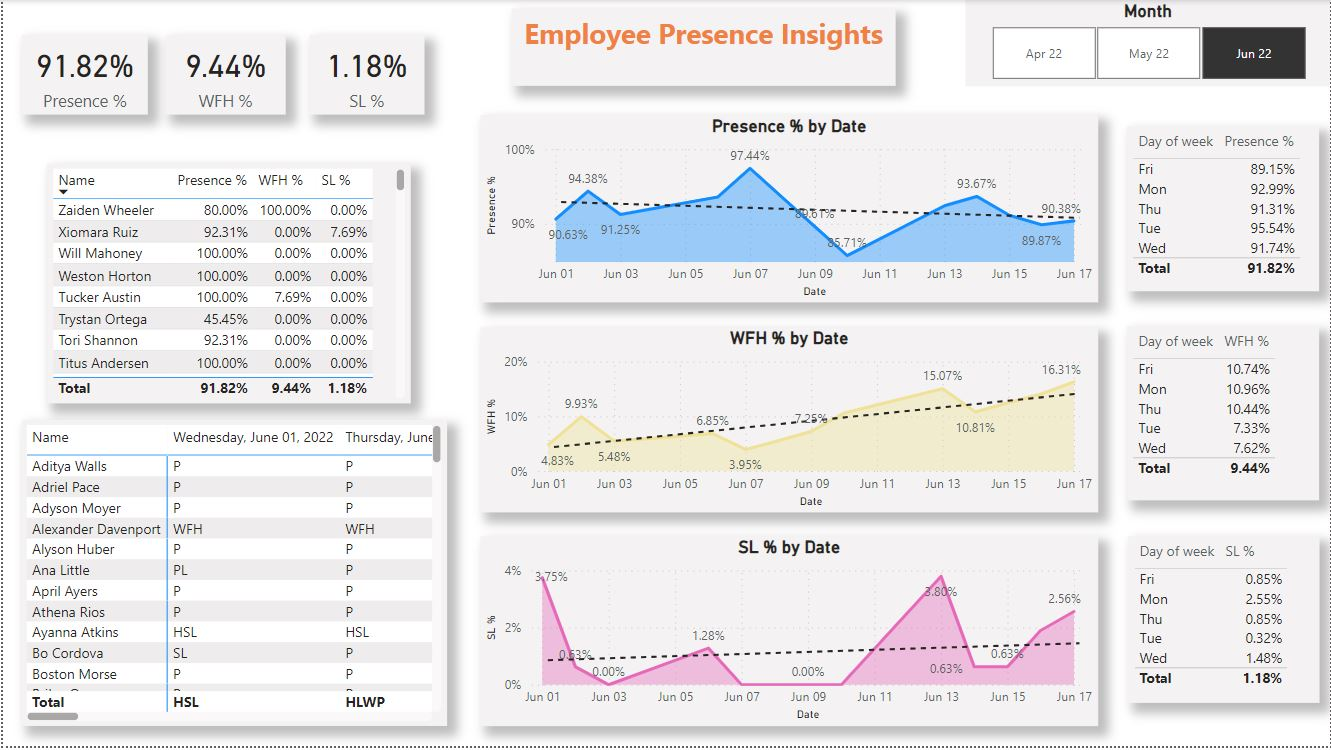

This screenshot's page, from the dashboard's own definition file:
{"tool":"powerbi","page":{"name":"Page 1","canvas":[1280,720],"ordinal":0},"visuals":[{"type":"card","fields":{"Values":["Measure Table.Presence %"]},"box":[18.1,33.8,121.8,77.2],"z":0},{"type":"slicer","title":"Month","fields":{"Values":["Final Data.Month"]},"box":[928.6,0,352.2,83.2],"z":1000},{"type":"card","fields":{"Values":["Measure Table.WFH %"]},"box":[156.8,33.8,115.8,77.2],"z":2000},{"type":"card","fields":{"Values":["Measure Table.SL %"]},"box":[295.5,33.8,111,77.2],"z":3000},{"type":"tableEx","fields":{"Values":["Final Data.Name","Measure Table.Presence %","Measure Table.WFH %","Measure Table.SL %"]},"box":[42.2,158,351,231.6],"z":4000},{"type":"pivotTable","fields":{"Rows":["Final Data.Name"],"Values":["Min(Final Data.Value)"],"Columns":["Final Data.Date"]},"box":[18.1,405.2,410.1,295.5],"z":5000},{"type":"areaChart","fields":{"Category":["Final Data.Date"],"Y":["Measure Table.WFH %"]},"box":[460.7,316,595.8,178.5],"z":6000},{"type":"areaChart","fields":{"Category":["Final Data.Date"],"Y":["Measure Table.Presence %"]},"box":[460.7,111,595.8,180.9],"z":7000},{"type":"areaChart","fields":{"Category":["Final Data.Date"],"Y":["Measure Table.SL %"]},"box":[460.7,517.4,595.8,183.3],"z":8000},{"type":"tableEx","fields":{"Values":["Final Data.Day of week","Measure Table.Presence %"]},"box":[1084.2,121.8,185.7,159.2],"z":9000},{"type":"tableEx","fields":{"Values":["Final Data.Day of week","Measure Table.WFH %"]},"box":[1084.2,314.8,185.7,167.6],"z":10000},{"type":"tableEx","fields":{"Values":["Final Data.Day of week","Measure Table.SL %"]},"box":[1085.4,517.4,184.5,160.4],"z":11000},{"type":"textbox","box":[490.9,8.4,370.3,74.8],"z":12000}]}

Visuals, with their boxes in screenshot pixels (x1, y1, x2, y2), scaled from the page's 1280x720 canvas onto the 1331x750 screenshot:
card - Measure Table.Presence %: <region>19, 35, 145, 116</region>
"Month" slicer: <region>966, 0, 1330, 87</region>
card - Measure Table.WFH %: <region>163, 35, 283, 116</region>
card - Measure Table.SL %: <region>307, 35, 423, 116</region>
tableEx - Final Data.Name x Measure Table.Presence %: <region>44, 165, 409, 406</region>
pivotTable - Final Data.Name x Min(Final Data.Value): <region>19, 422, 445, 730</region>
areaChart - Final Data.Date x Measure Table.WFH %: <region>479, 329, 1099, 515</region>
areaChart - Final Data.Date x Measure Table.Presence %: <region>479, 116, 1099, 304</region>
areaChart - Final Data.Date x Measure Table.SL %: <region>479, 539, 1099, 730</region>
tableEx - Final Data.Day of week x Measure Table.Presence %: <region>1127, 127, 1320, 293</region>
tableEx - Final Data.Day of week x Measure Table.WFH %: <region>1127, 328, 1320, 502</region>
tableEx - Final Data.Day of week x Measure Table.SL %: <region>1129, 539, 1320, 706</region>
textbox: <region>510, 9, 896, 87</region>
